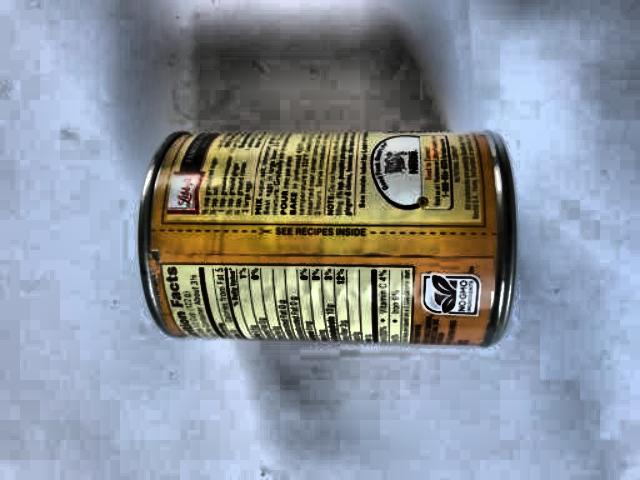Almennt: (89, 94, 547, 389)
